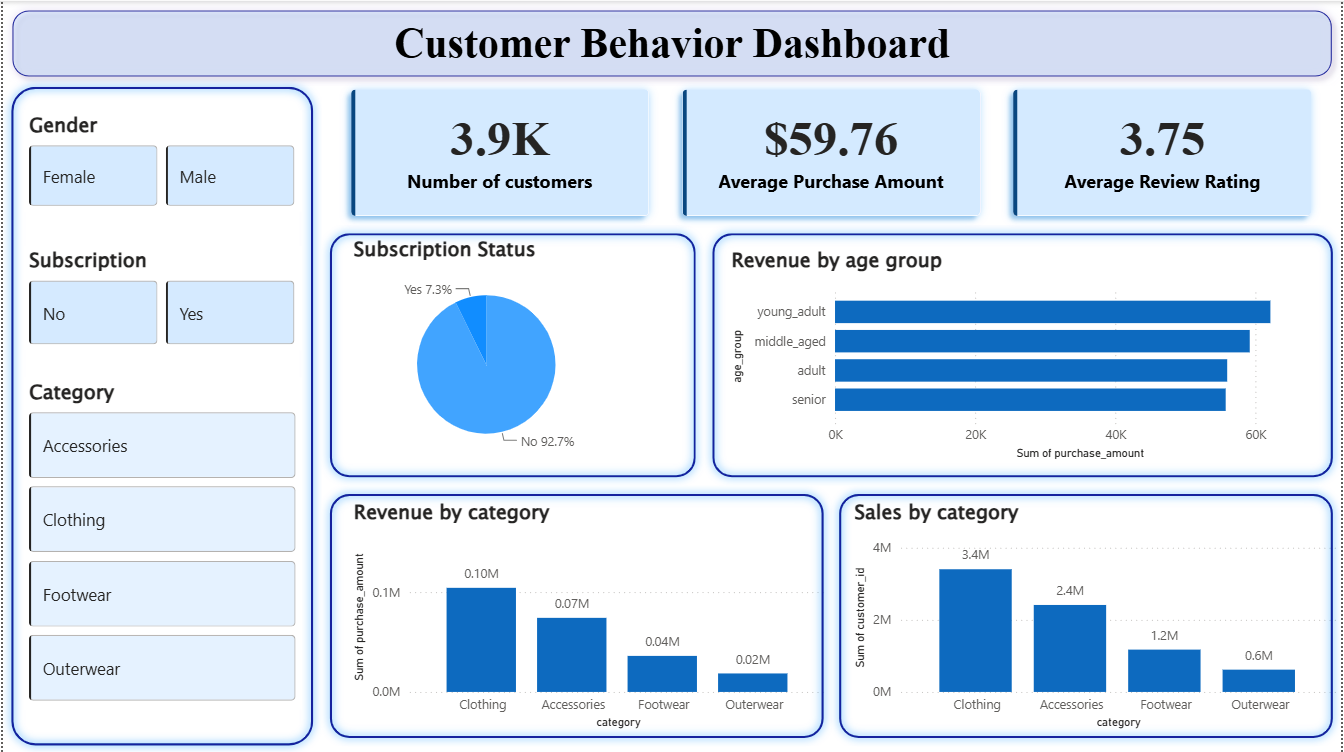

This screenshot's page, from the dashboard's own definition file:
{"tool":"powerbi","page":{"name":"Page 1","canvas":[1280,720],"ordinal":0},"visuals":[{"type":"cardVisual","fields":{"Data":["customer_shopping_behavior_modified (1).Number of customers","customer_shopping_behavior_modified (1).average purchacse ampunt","customer_shopping_behavior_modified (1).Average Review Rating"]},"box":[304.8,56.5,975.6,177.7],"z":0},{"type":"columnChart","title":"Revenue by category","fields":{"Category":["customer_shopping_behavior_modified (1).category"],"Y":["Sum(customer_shopping_behavior_modified (1).purchase_amount)"]},"box":[330.7,475.4,462.5,225.9],"z":1000},{"type":"columnChart","title":"Sales by category","fields":{"Category":["customer_shopping_behavior_modified (1).category"],"Y":["Sum(customer_shopping_behavior_modified (1).customer_id)"]},"box":[809.6,475.4,470.7,225.9],"z":2000},{"type":"pieChart","title":"Subscription Status","fields":{"Category":["customer_shopping_behavior_modified (1).subscription_status"],"Y":["Sum(customer_shopping_behavior_modified (1).customer_id)"]},"box":[330.7,223.6,263.6,220.1],"z":3000},{"type":"shape","box":[304.8,214.2,366,249.5],"z":4000},{"type":"shape","box":[304.8,463.7,488.4,249.5],"z":5000},{"type":"shape","box":[670.8,214.2,609.6,249.5],"z":6000},{"type":"clusteredBarChart","title":"Revenue by age group","fields":{"Y":["Sum(customer_shopping_behavior_modified (1).purchase_amount)"],"Category":["customer_shopping_behavior_modified (1).age_group"]},"box":[692,234.2,588.4,209.5],"z":7000},{"type":"shape","box":[0,0,1280.4,81.2],"z":8000},{"type":"shape","box":[0,74.1,304.8,646.1],"z":9000},{"type":"shape","box":[792,463.7,488.4,249.5],"z":10000},{"type":"advancedSlicerVisual","title":"Gender","fields":{"Values":["customer_shopping_behavior_modified (1).gender"]},"box":[20,104.7,266,96.5],"z":11000},{"type":"advancedSlicerVisual","title":"Category","fields":{"Values":["customer_shopping_behavior_modified (1).category"]},"box":[20,360.1,266,317.7],"z":11001},{"type":"advancedSlicerVisual","title":"Subscription","fields":{"Values":["customer_shopping_behavior_modified (1).subscription_status"]},"box":[20,234.2,266,100],"z":11002}]}

Visuals, with their boxes in screenshot pixels (x1, y1, x2, y2), scaled from the page's 1280x720 canvas onto the 1344x752 screenshot:
cardVisual - customer_shopping_behavior_modified (1).Number of customers x customer_shopping_behavior_modified (1).average purchacse ampunt: x1=320 y1=59 x2=1343 y2=245
"Revenue by category" columnChart: x1=347 y1=497 x2=833 y2=732
"Sales by category" columnChart: x1=850 y1=497 x2=1343 y2=732
"Subscription Status" pieChart: x1=347 y1=234 x2=624 y2=463
shape: x1=320 y1=224 x2=704 y2=484
shape: x1=320 y1=484 x2=833 y2=745
shape: x1=704 y1=224 x2=1343 y2=484
"Revenue by age group" clusteredBarChart: x1=727 y1=245 x2=1343 y2=463
shape: x1=0 y1=0 x2=1343 y2=85
shape: x1=0 y1=77 x2=320 y2=751
shape: x1=832 y1=484 x2=1343 y2=745
"Gender" advancedSlicerVisual: x1=21 y1=109 x2=300 y2=210
"Category" advancedSlicerVisual: x1=21 y1=376 x2=300 y2=708
"Subscription" advancedSlicerVisual: x1=21 y1=245 x2=300 y2=349
